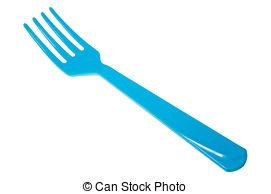Fork: (23, 6, 247, 172)
